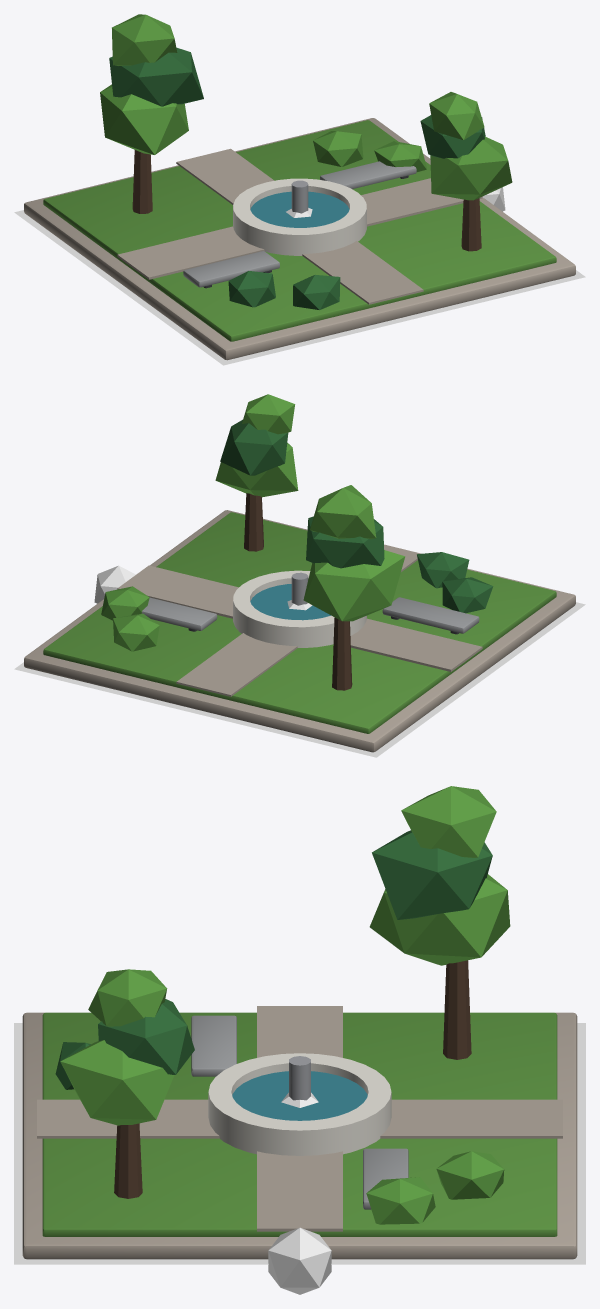
File: garden_1x1.gltf
The picture shows the model from 3 angles, top to bottom: view 1: azimuth 30°, elevation 25°; view 2: azimuth 150°, elevation 25°; view 3: azimuth 270°, elevation 25°; orthographic projection. The views are drawn at different scales.
Visible parts, largest first — view 1: Garden, %P%Footprint; view 2: Garden, %P%Footprint, %P%AnchorIn; view 3: Garden, %P%Footprint, %P%AnchorIn.
Boxes of the visible parts, x1,y1,x2,y2 form: Garden: (24,14,575,360); %P%Footprint: (14,210,585,365); Garden: (24,394,575,752); %P%Footprint: (14,602,585,757); %P%AnchorIn: (94,565,135,603); Garden: (22,786,577,1259); %P%Footprint: (14,1023,585,1264); %P%AnchorIn: (268,1227,331,1294).
Size of the model in its own units: 2.12 by 1.31 by 2.
